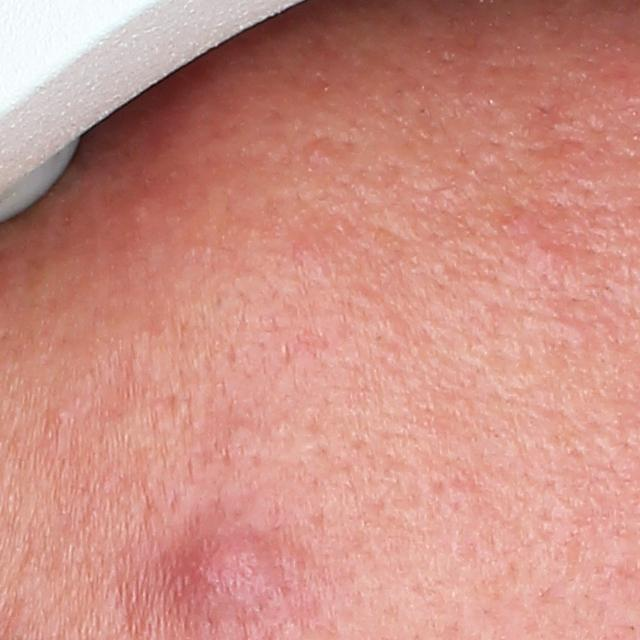comedo: (49, 404, 74, 422)
papule: (177, 531, 269, 628)
